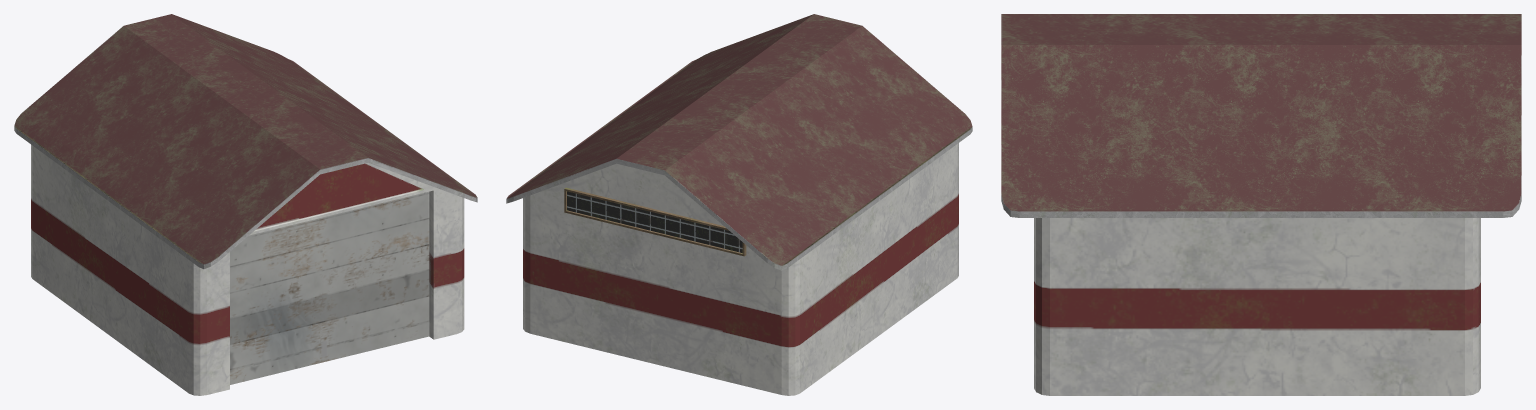
The model's file is garage.glb.
The picture shows the model from 3 angles, left to right: view 1: azimuth 30°, elevation 25°; view 2: azimuth 150°, elevation 25°; view 3: azimuth 270°, elevation 25°; orthographic projection. The views are drawn at different scales.
Parts seen in each view (by area): view 1: SM_Garage01; view 2: SM_Garage01; view 3: SM_Garage01.
Part boxes in pixels (left/top/right/bottom): SM_Garage01: left=14, top=14, right=477, bottom=395; SM_Garage01: left=506, top=14, right=972, bottom=395; SM_Garage01: left=1001, top=14, right=1521, bottom=395.
Size of the model in its own units: 5.9 by 4.28 by 7.26.
1 material, 1 textured.
